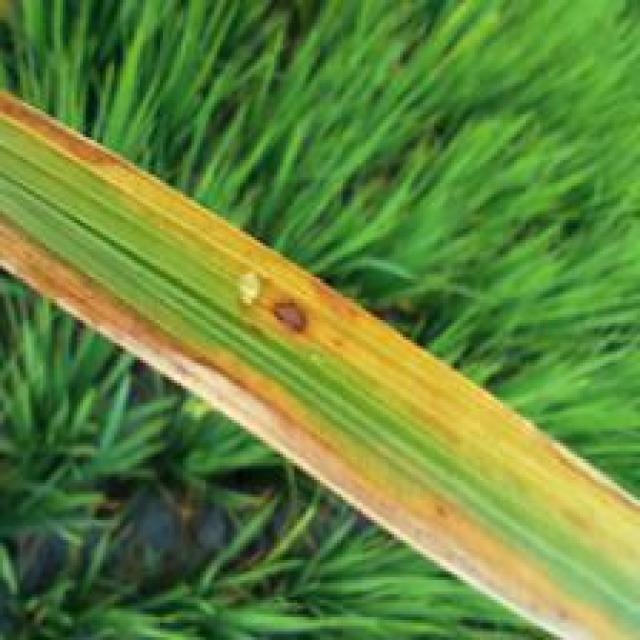Bacterial_Leaf_Blight: (0, 86, 640, 580), (0, 214, 618, 640)
